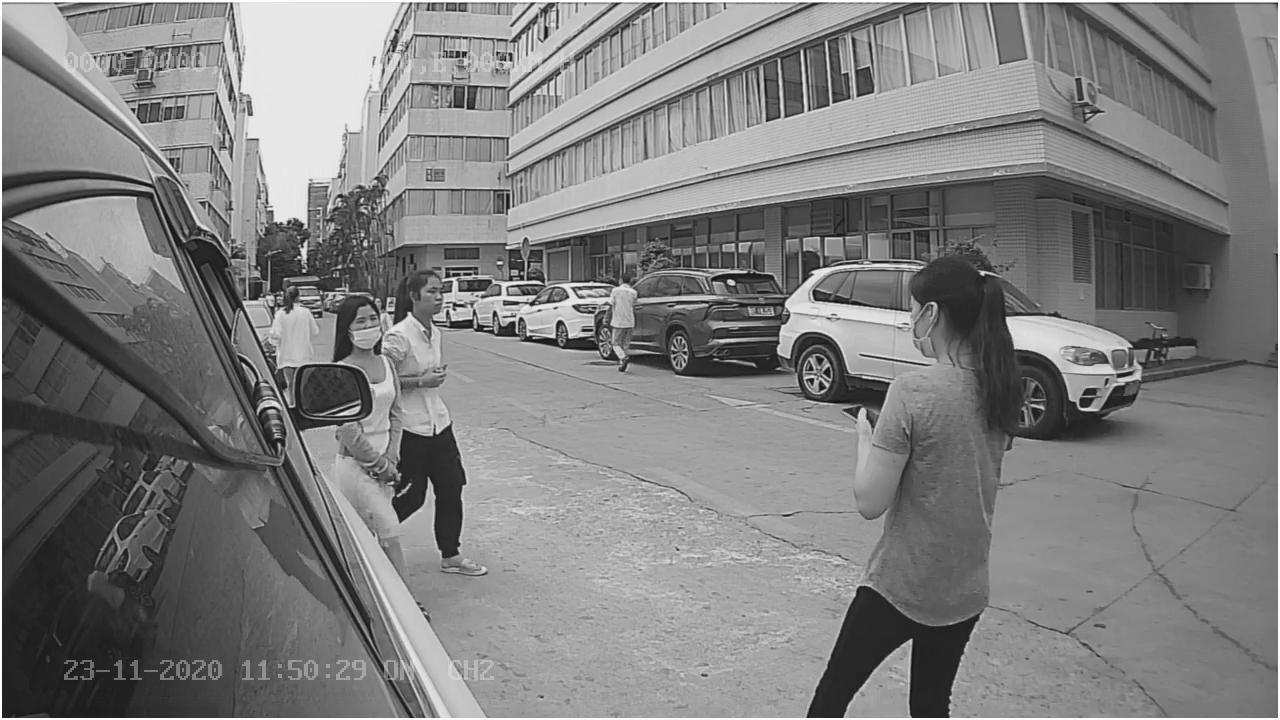person: (837, 235, 1029, 528)
